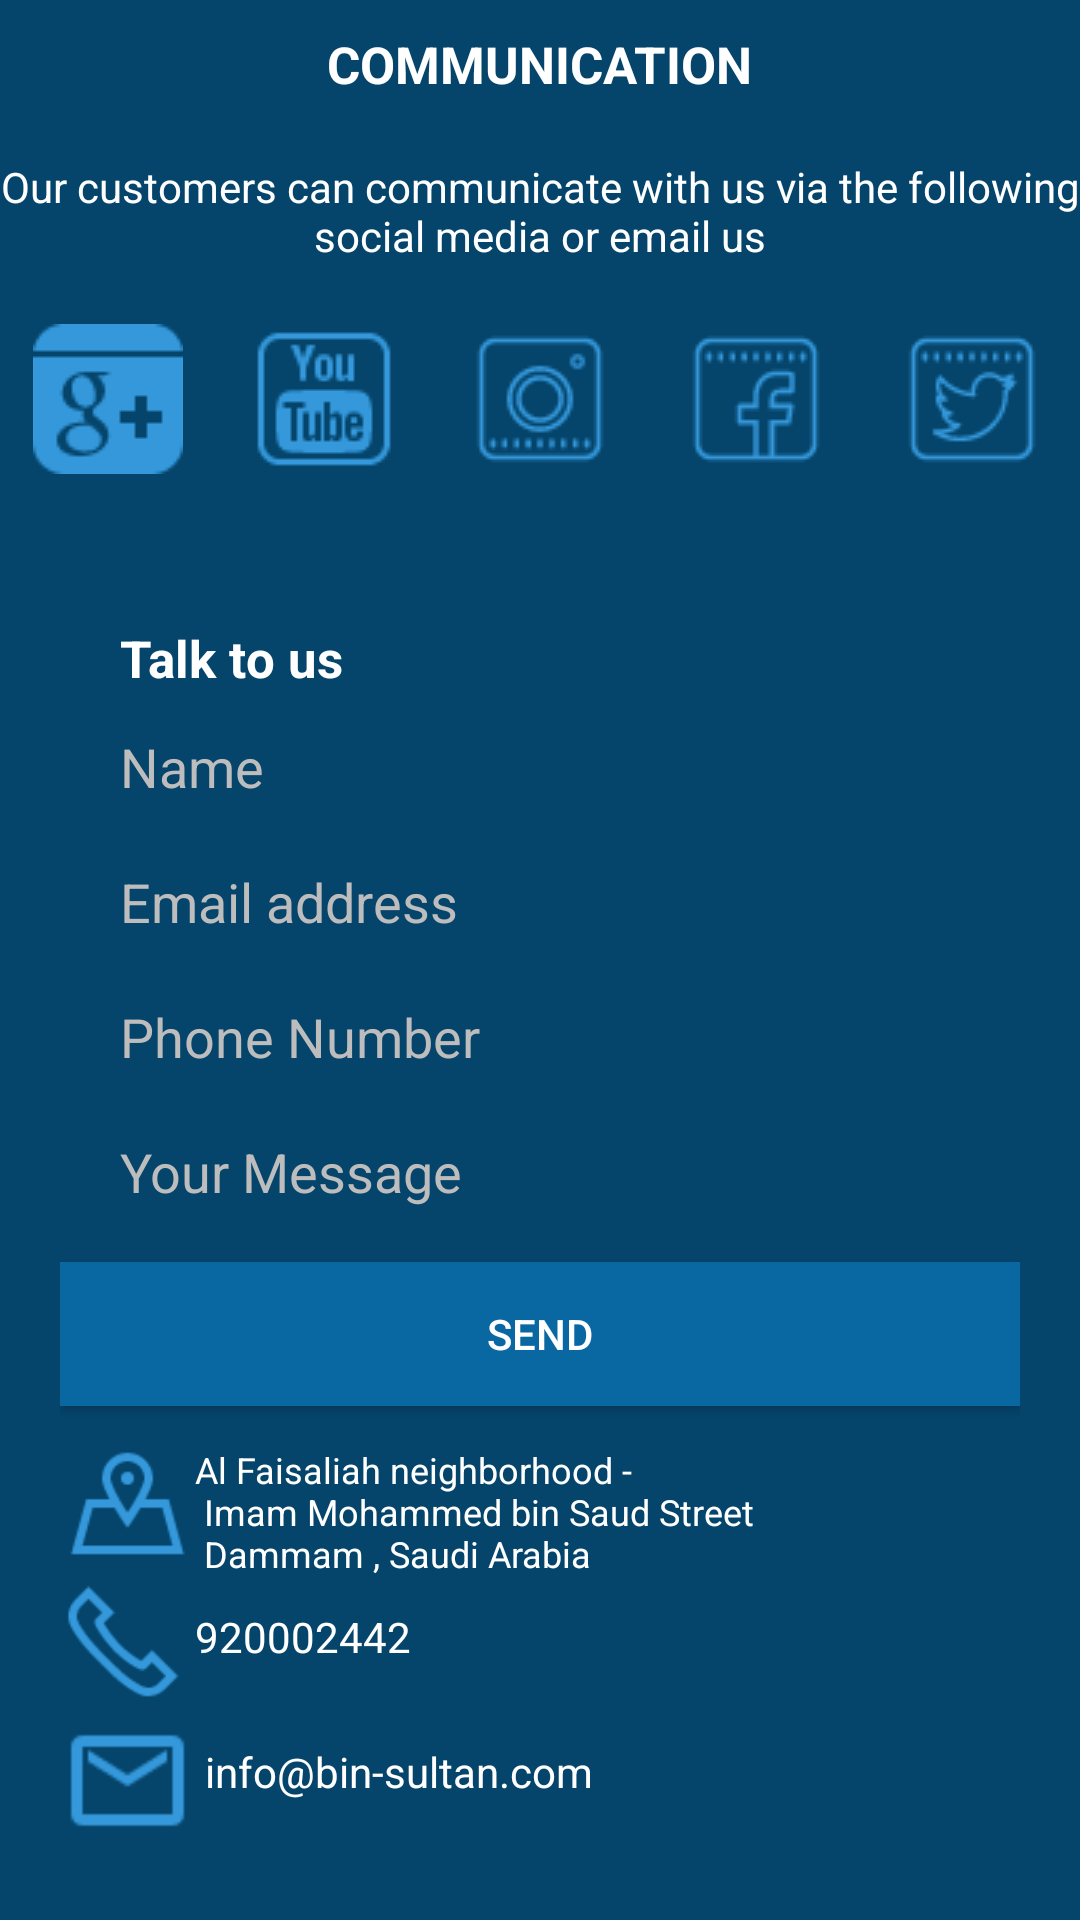

Screen size 1080*1920. Icon name, then its box in pixels as (x1, y1, x2, y2):
address: (71, 1452, 184, 1555)
message: (70, 1735, 185, 1826)
phone: (68, 1586, 178, 1697)
